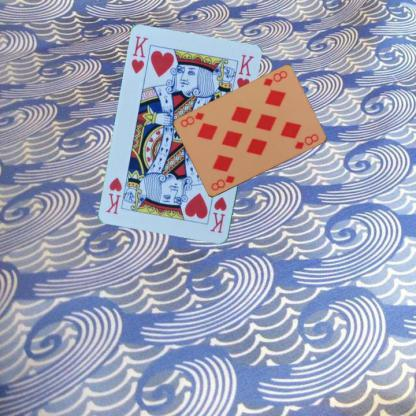8d: (261, 68, 288, 88), (209, 173, 236, 192)
Kh: (128, 34, 150, 76), (208, 194, 228, 235)
